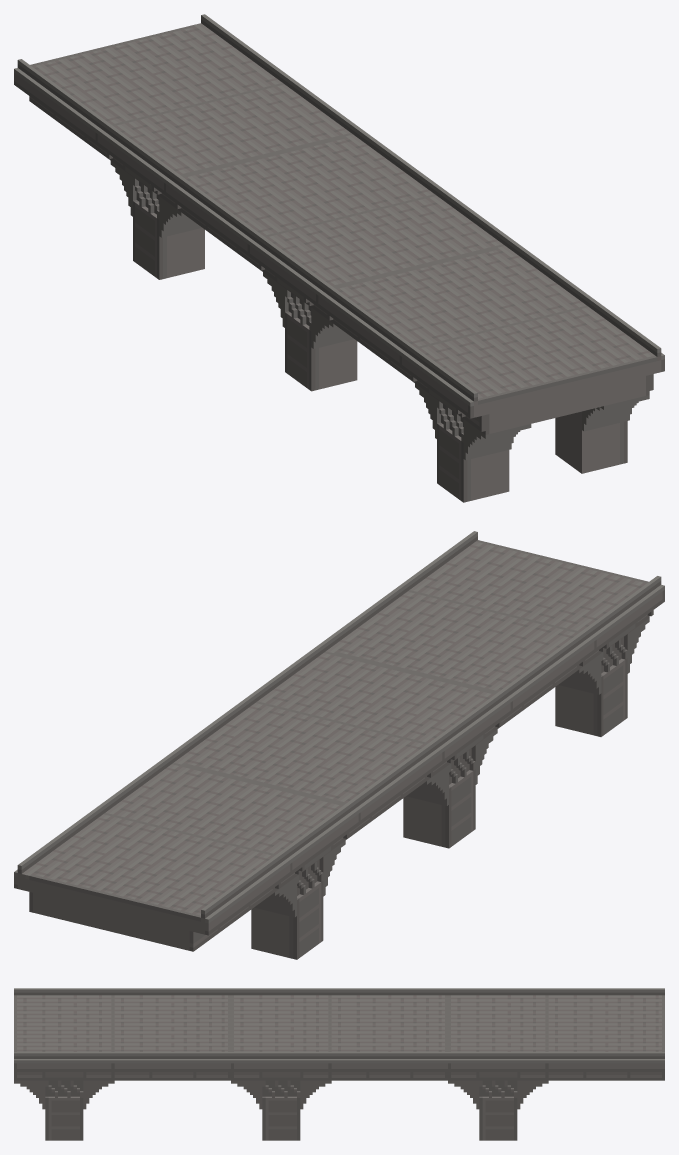
The model's file is Scene_Terrain_Matching_Bridge.obj.
The picture shows the model from 3 angles, top to bottom: view 1: azimuth 30°, elevation 25°; view 2: azimuth 150°, elevation 25°; view 3: azimuth 270°, elevation 25°; orthographic projection. The views are drawn at different scales.
Bounding box in the file's own units: 5.1 × 3.2 × 20.7.
Materials: 1 (1 with a texture image).
